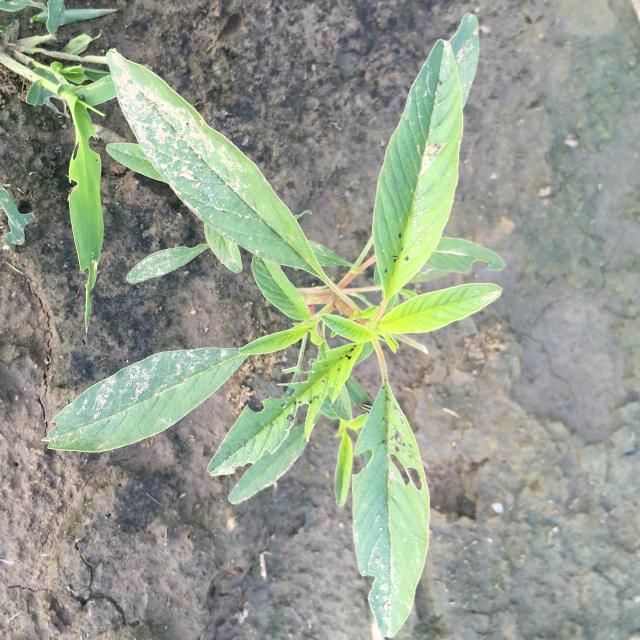Waterhemp: (42, 15, 506, 640)
